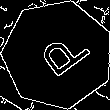P_SW: (26, 25, 89, 84)
